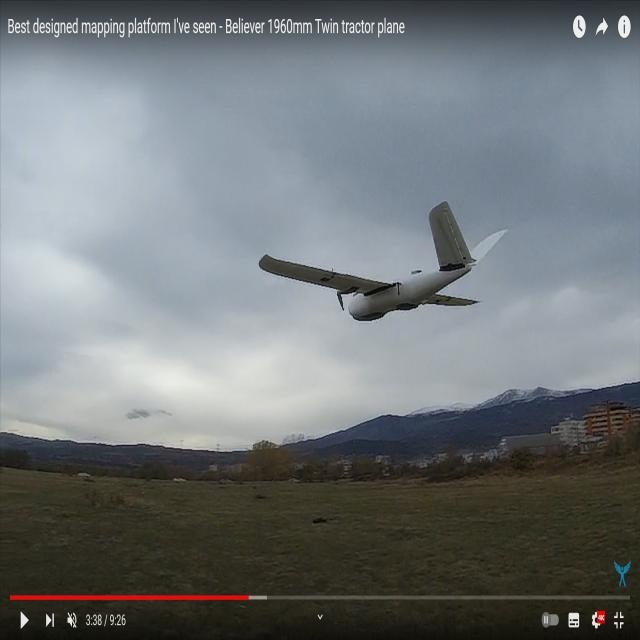iha: (259, 231, 515, 284)
